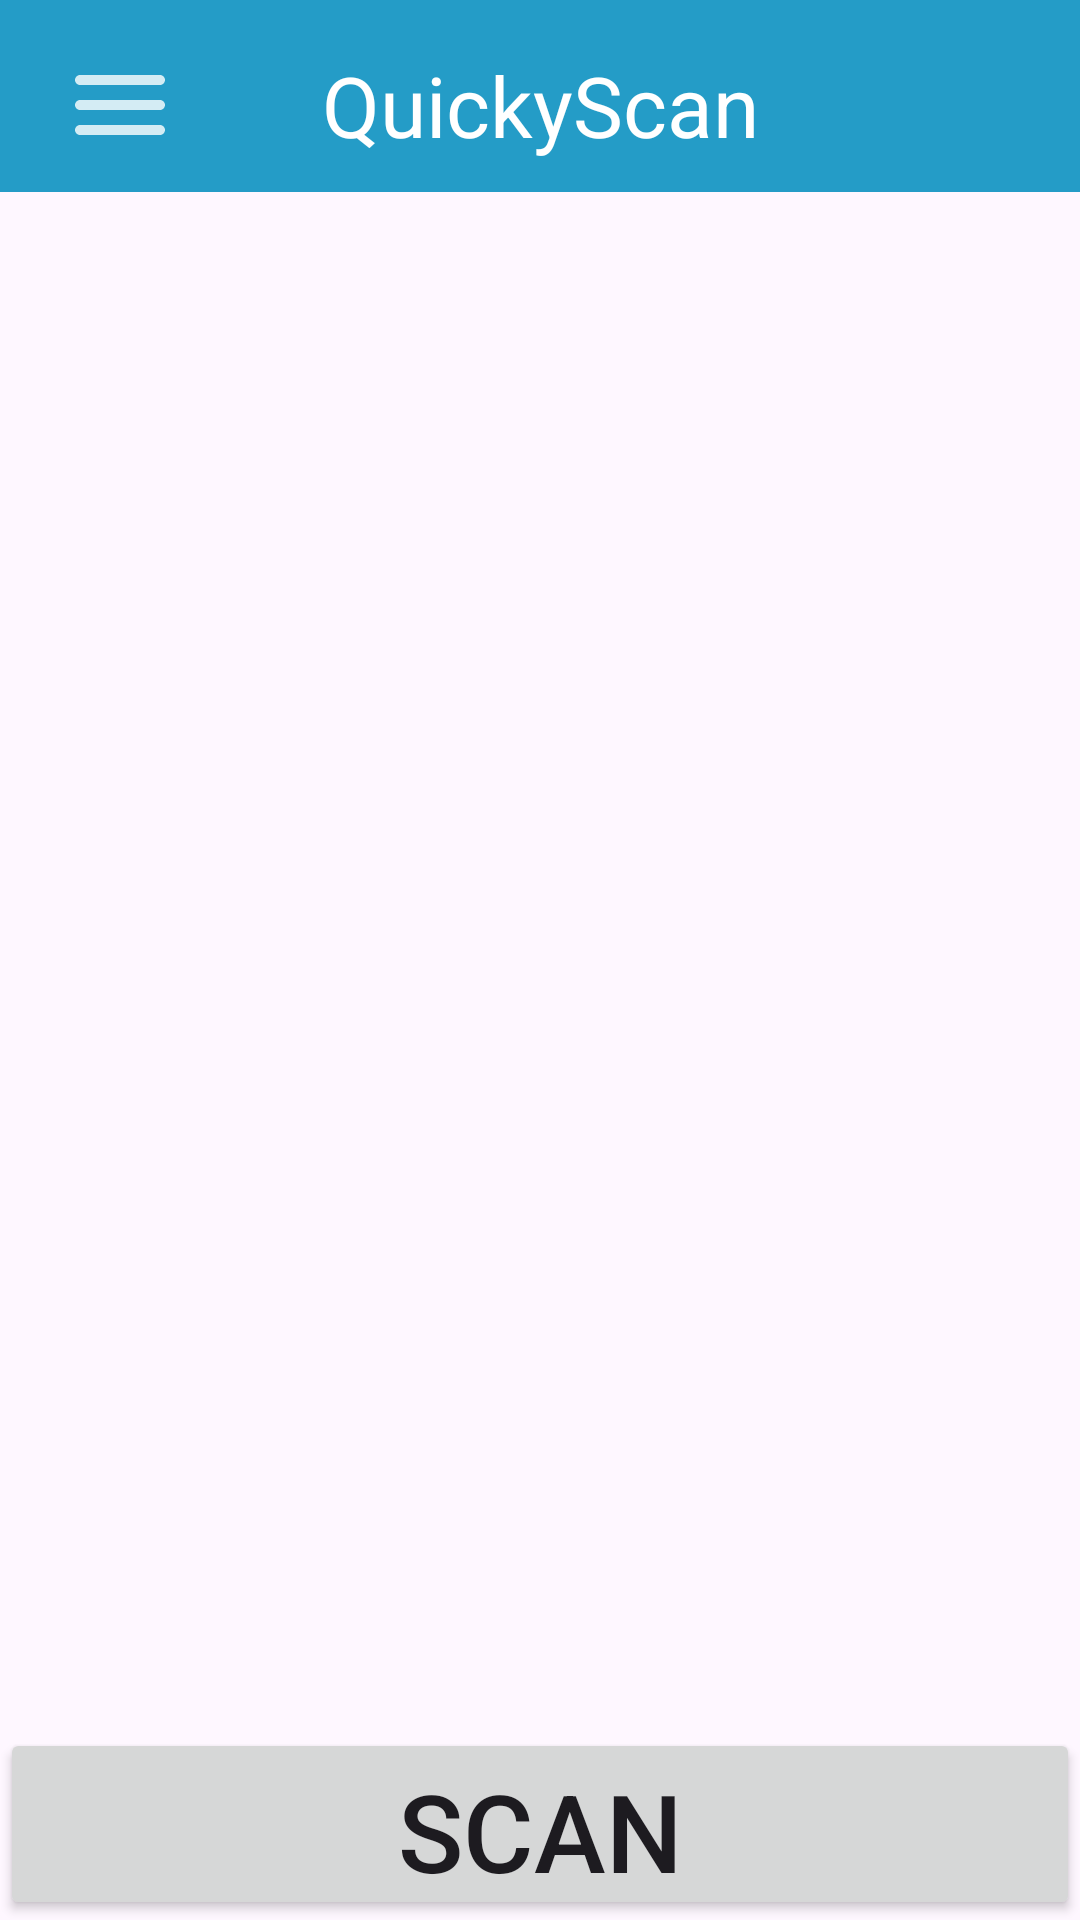

Screen size 1080*1920. Icon name, then its center in pixels as (x=x, y=y):
menu: (x=120, y=105)
